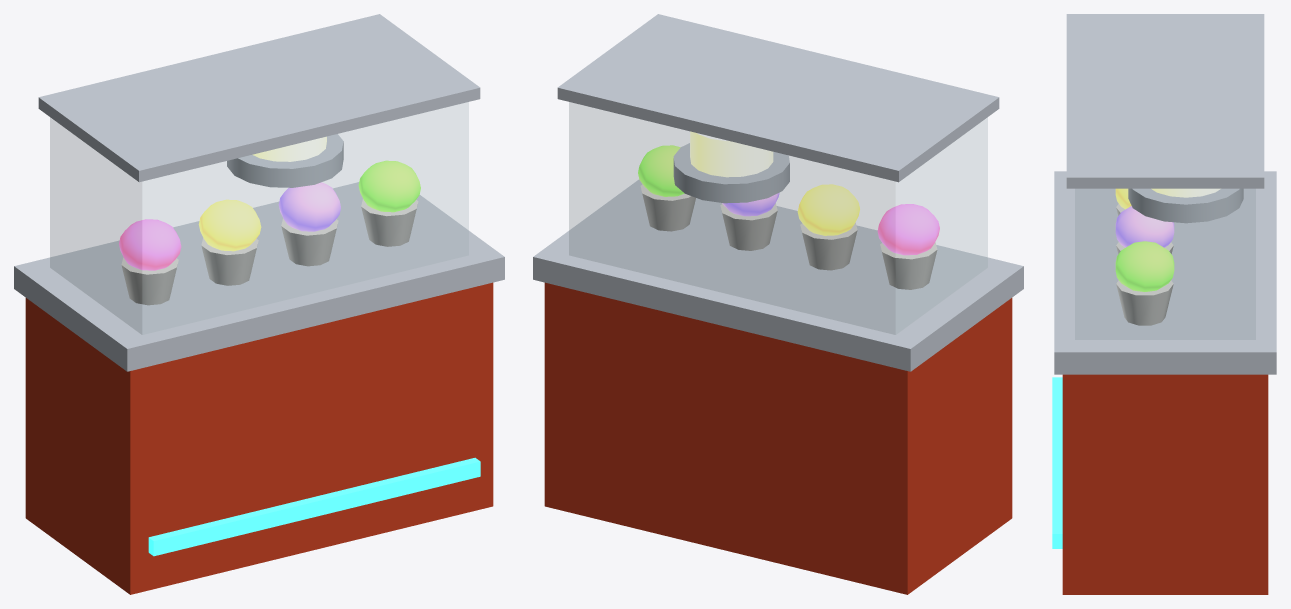
File: space_dessert_case.glb
3 views of the same model, side by side, from view 1: azimuth 30°, elevation 25°; view 2: azimuth 150°, elevation 25°; view 3: azimuth 270°, elevation 25° (orthographic).
Size of the model in its own units: 1.04 by 1.11 by 0.545.
